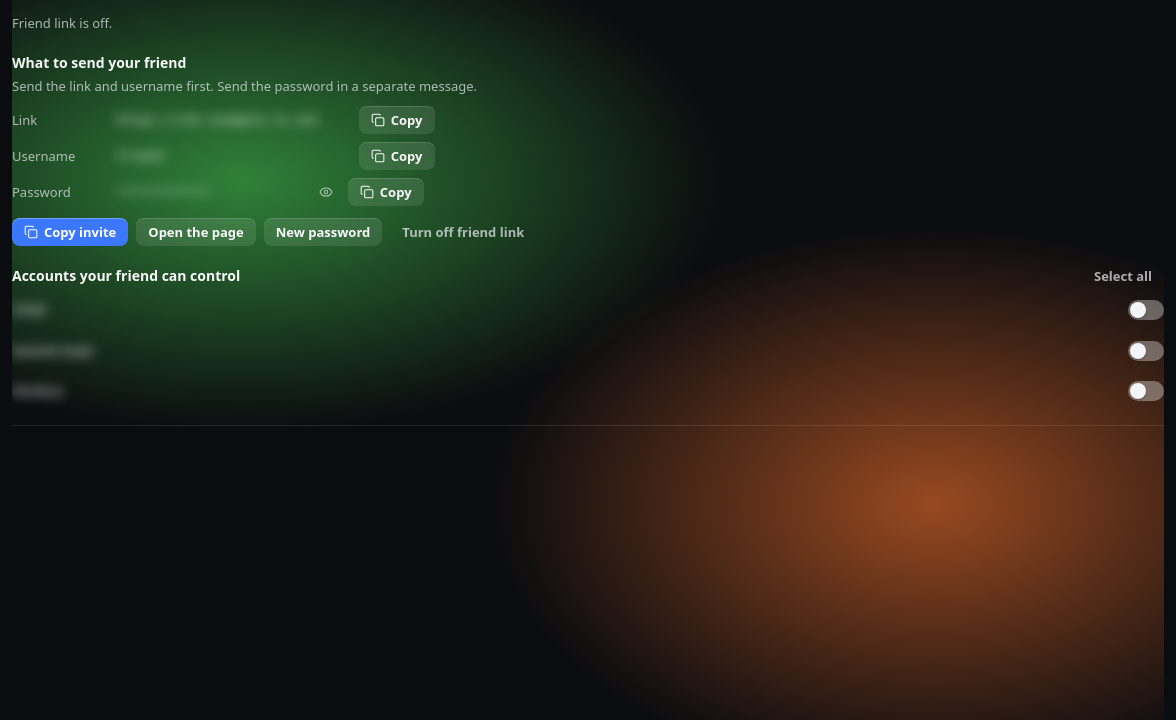
turn off friend link removes the Funnel entry, then clears the address
Click the button "Turn off friend link".
click(463, 232)  # box [390, 218, 536, 246]
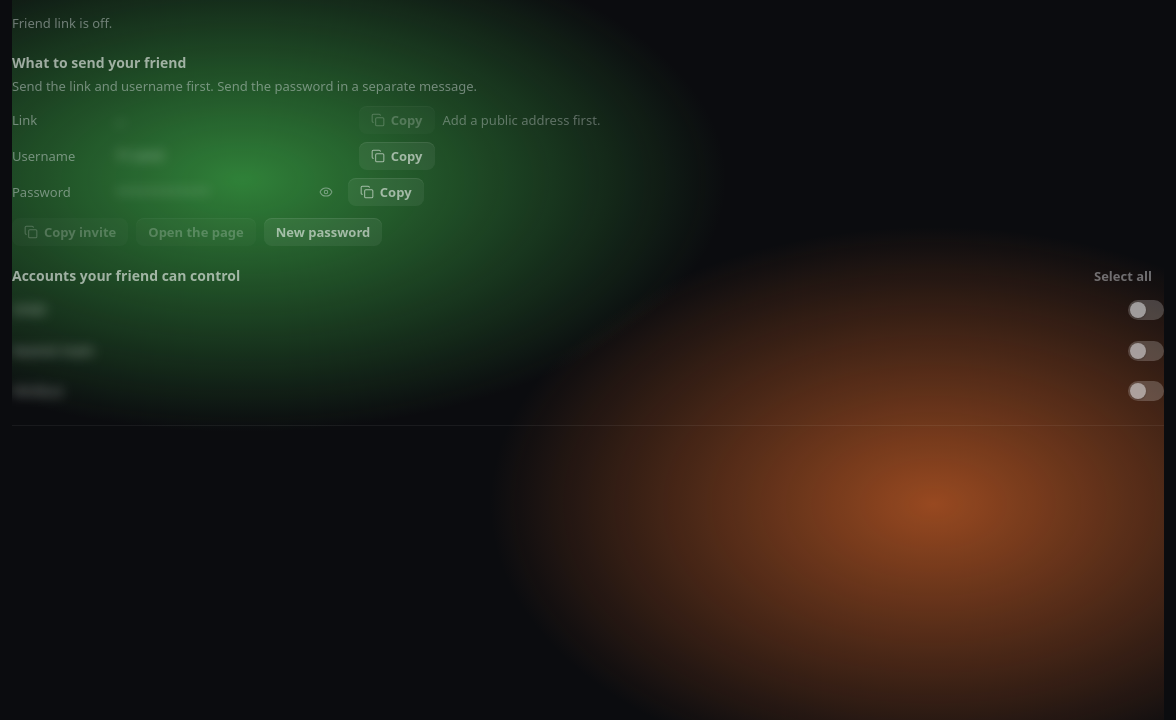
Now the button "Turn off friend link" is gone
